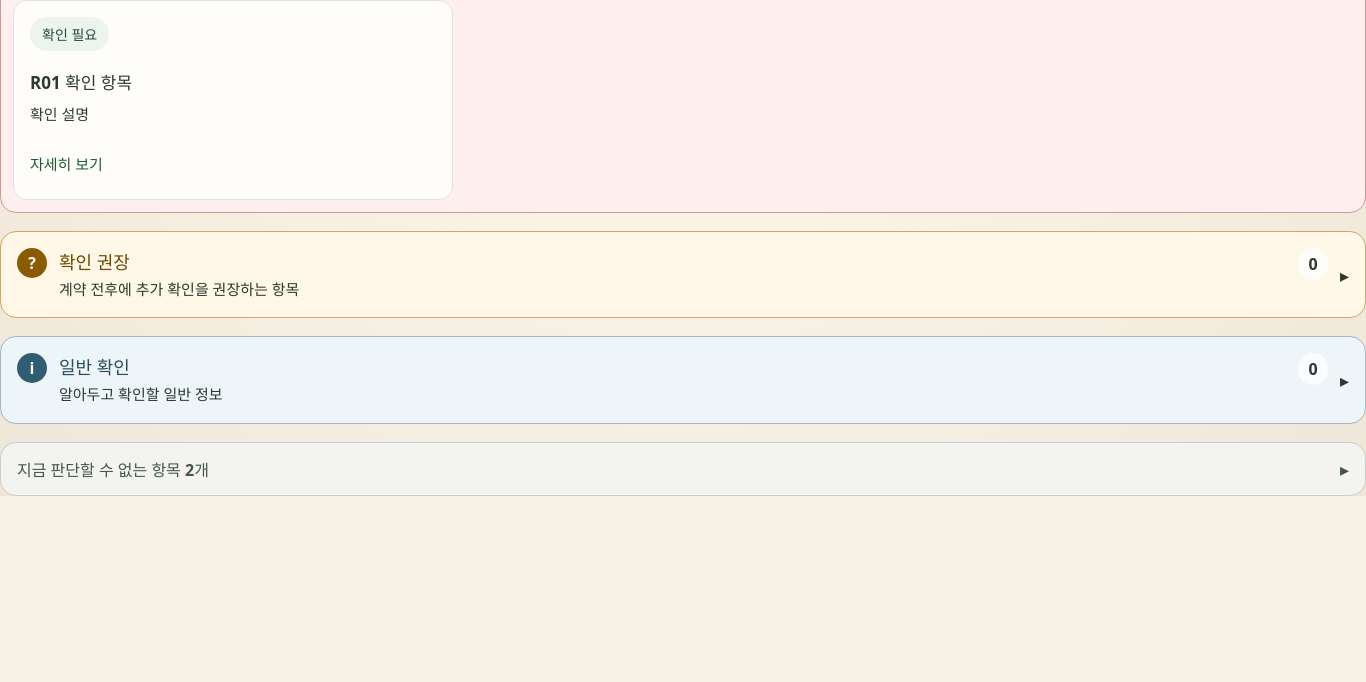
Test: PriorityGroups › keeps unavailable and external-data items in one collapsed group
This screenshot has width=1366, height=682.
Check: the text "R20" is not shown
Check: the heading "R01 확인 항목" is shown, box [30,71,132,94]
Click the button "지금 판단할 수 없는 항목 2개 ▸" at (101, 470), box [1,442,1365,494]
(page scrolled)
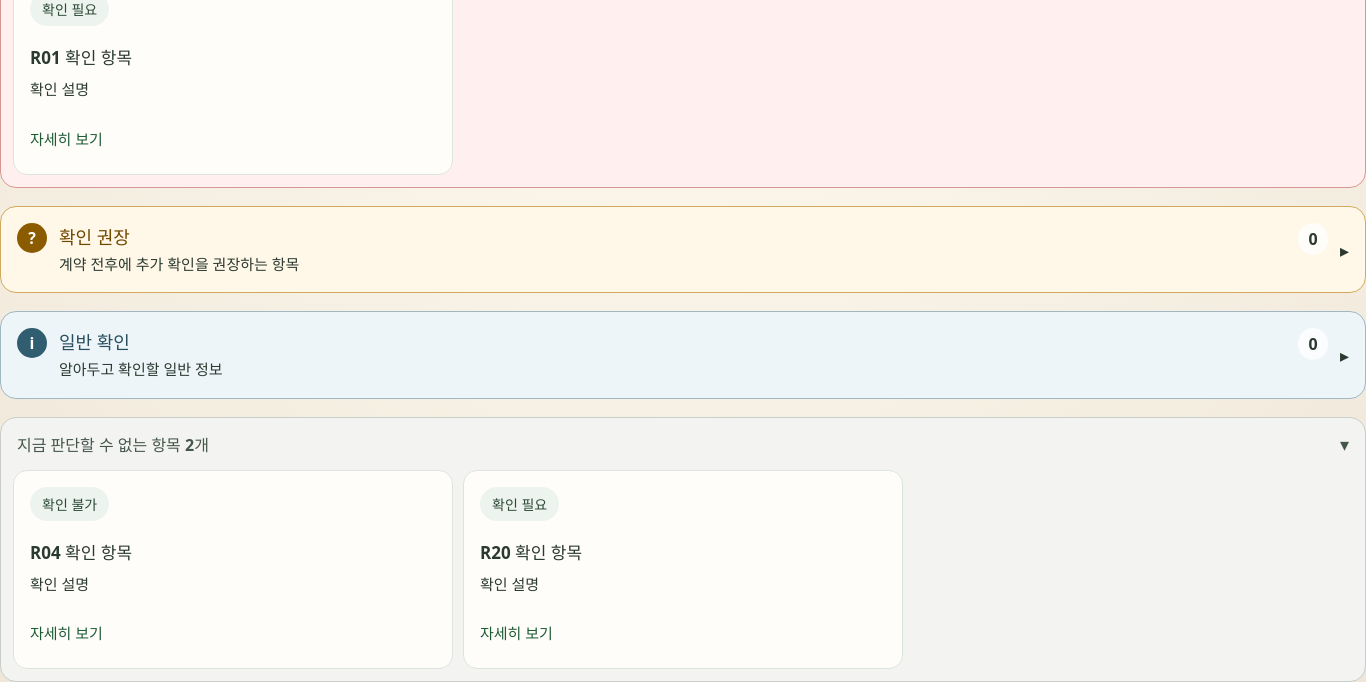
Check: the heading "R04 확인 항목" is shown, box [30,540,132,564]
Check: the heading "R20 확인 항목" is shown, box [480,540,582,564]
